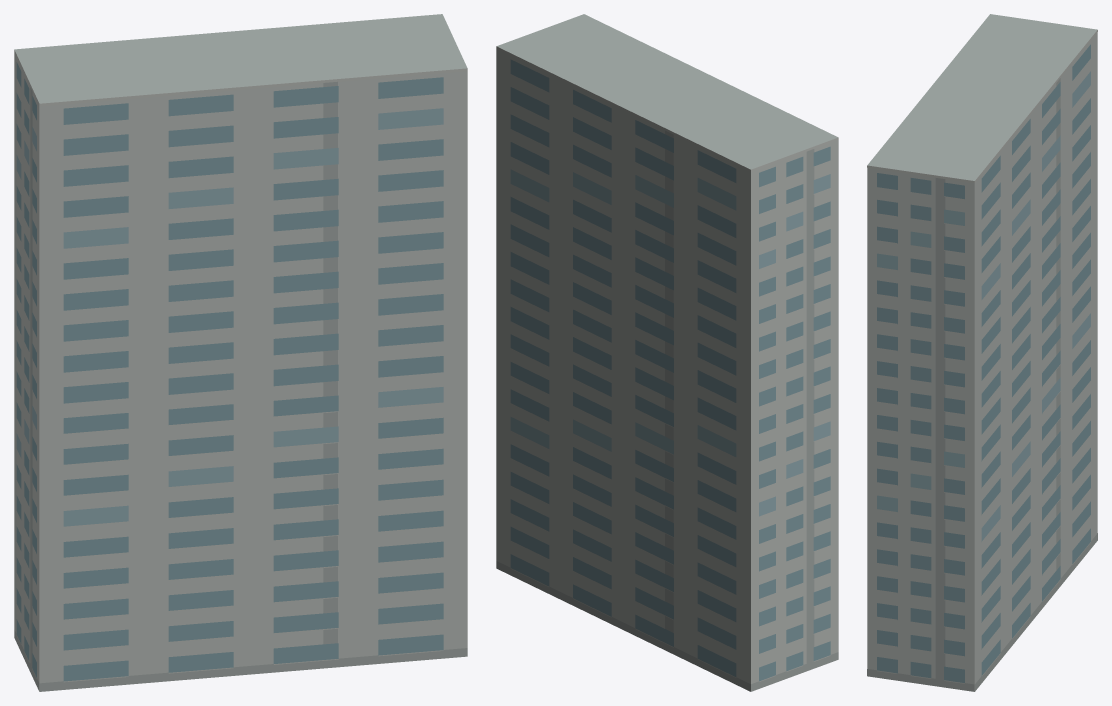
The model's file is residential-b891126b-127e-4cac-8a82-488e914ecc0e.glb.
The picture shows the model from 3 angles, left to right: view 1: azimuth 30°, elevation 25°; view 2: azimuth 150°, elevation 25°; view 3: azimuth 270°, elevation 25°; orthographic projection. The views are drawn at different scales.
Parts seen in each view (by area): view 1: residential-b891126b-127e-4cac-8a82-488e914ecc0e.tmp; view 2: residential-b891126b-127e-4cac-8a82-488e914ecc0e.tmp; view 3: residential-b891126b-127e-4cac-8a82-488e914ecc0e.tmp.
Part boxes in pixels (<box>): residential-b891126b-127e-4cac-8a82-488e914ecc0e.tmp: <box>14,14,467,691</box>; residential-b891126b-127e-4cac-8a82-488e914ecc0e.tmp: <box>496,14,838,691</box>; residential-b891126b-127e-4cac-8a82-488e914ecc0e.tmp: <box>867,14,1097,691</box>.
Bounding box in the file's own units: 37.18 × 53 × 21.7.
